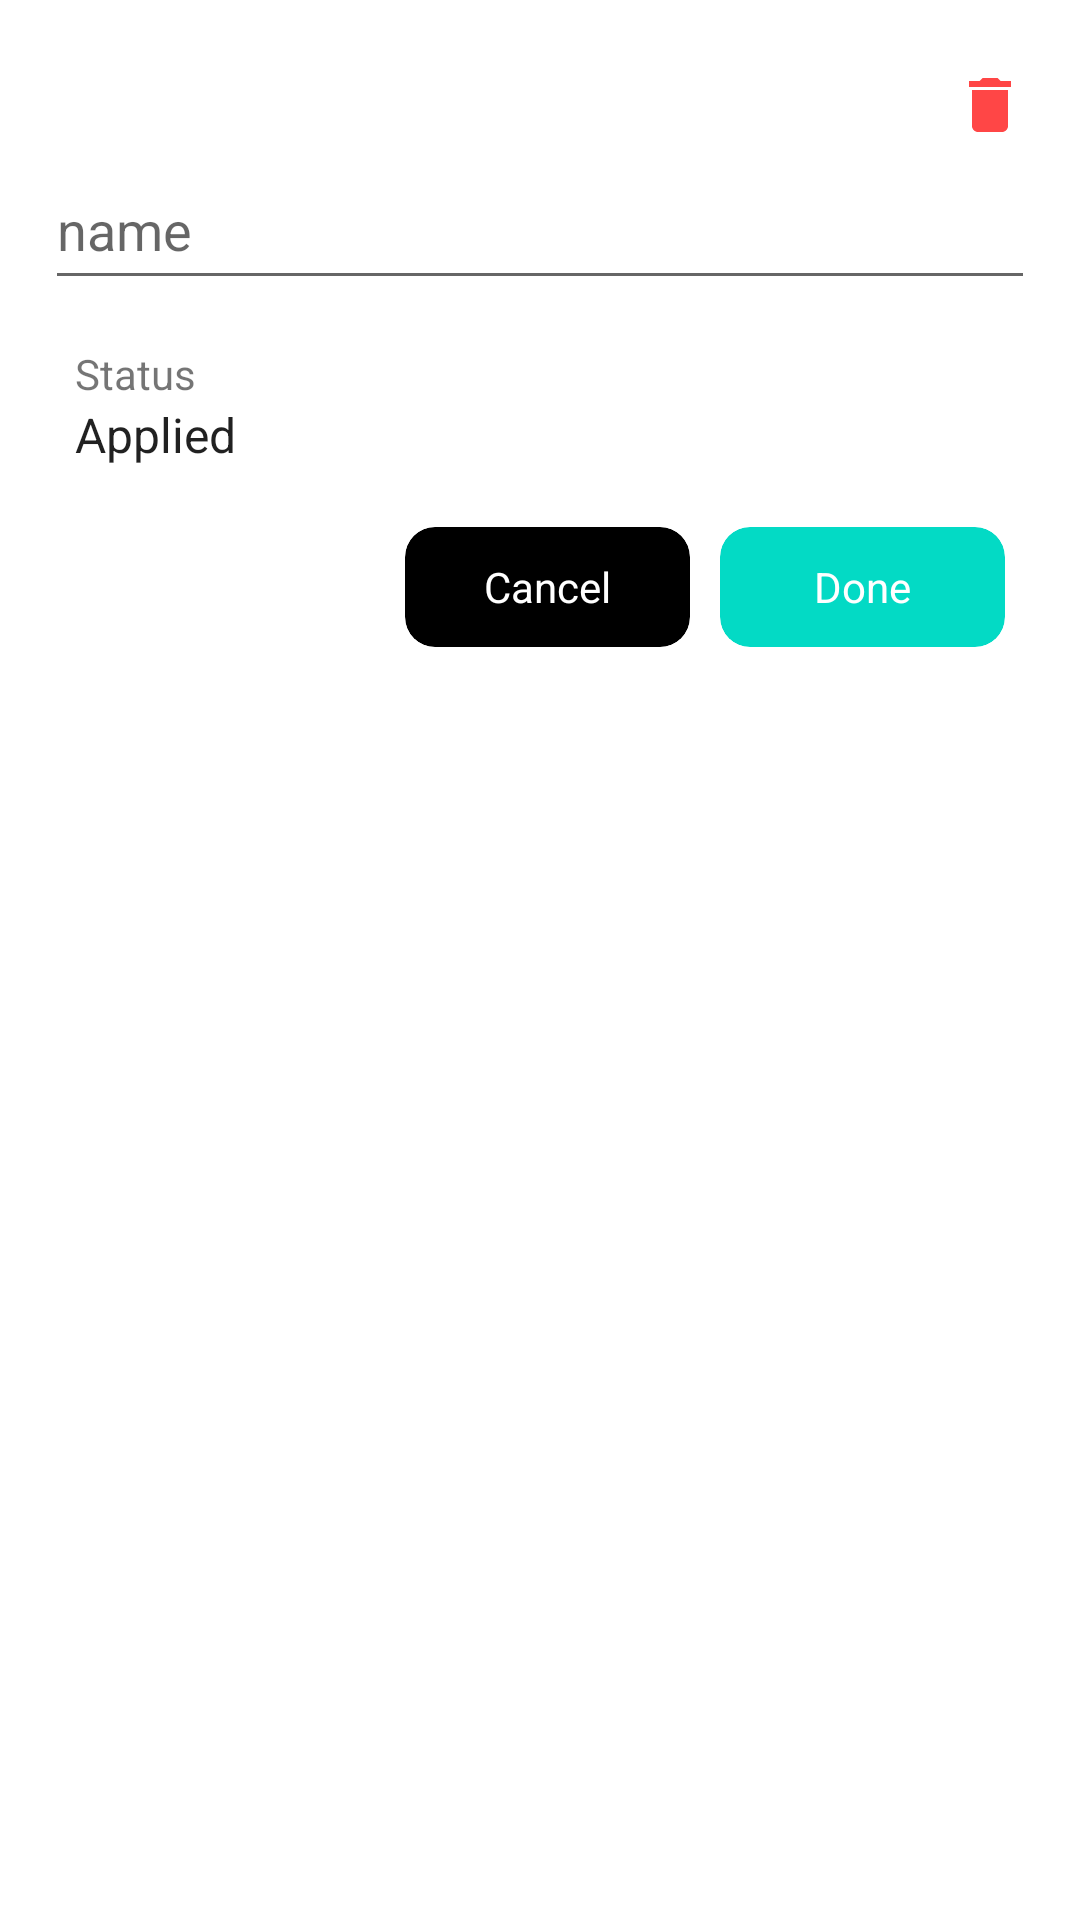

Screen size 1080 x 1920. Icon name, then its box in pixels as (x1, y1, x2, y2):
delete: (969, 78, 1011, 132)
